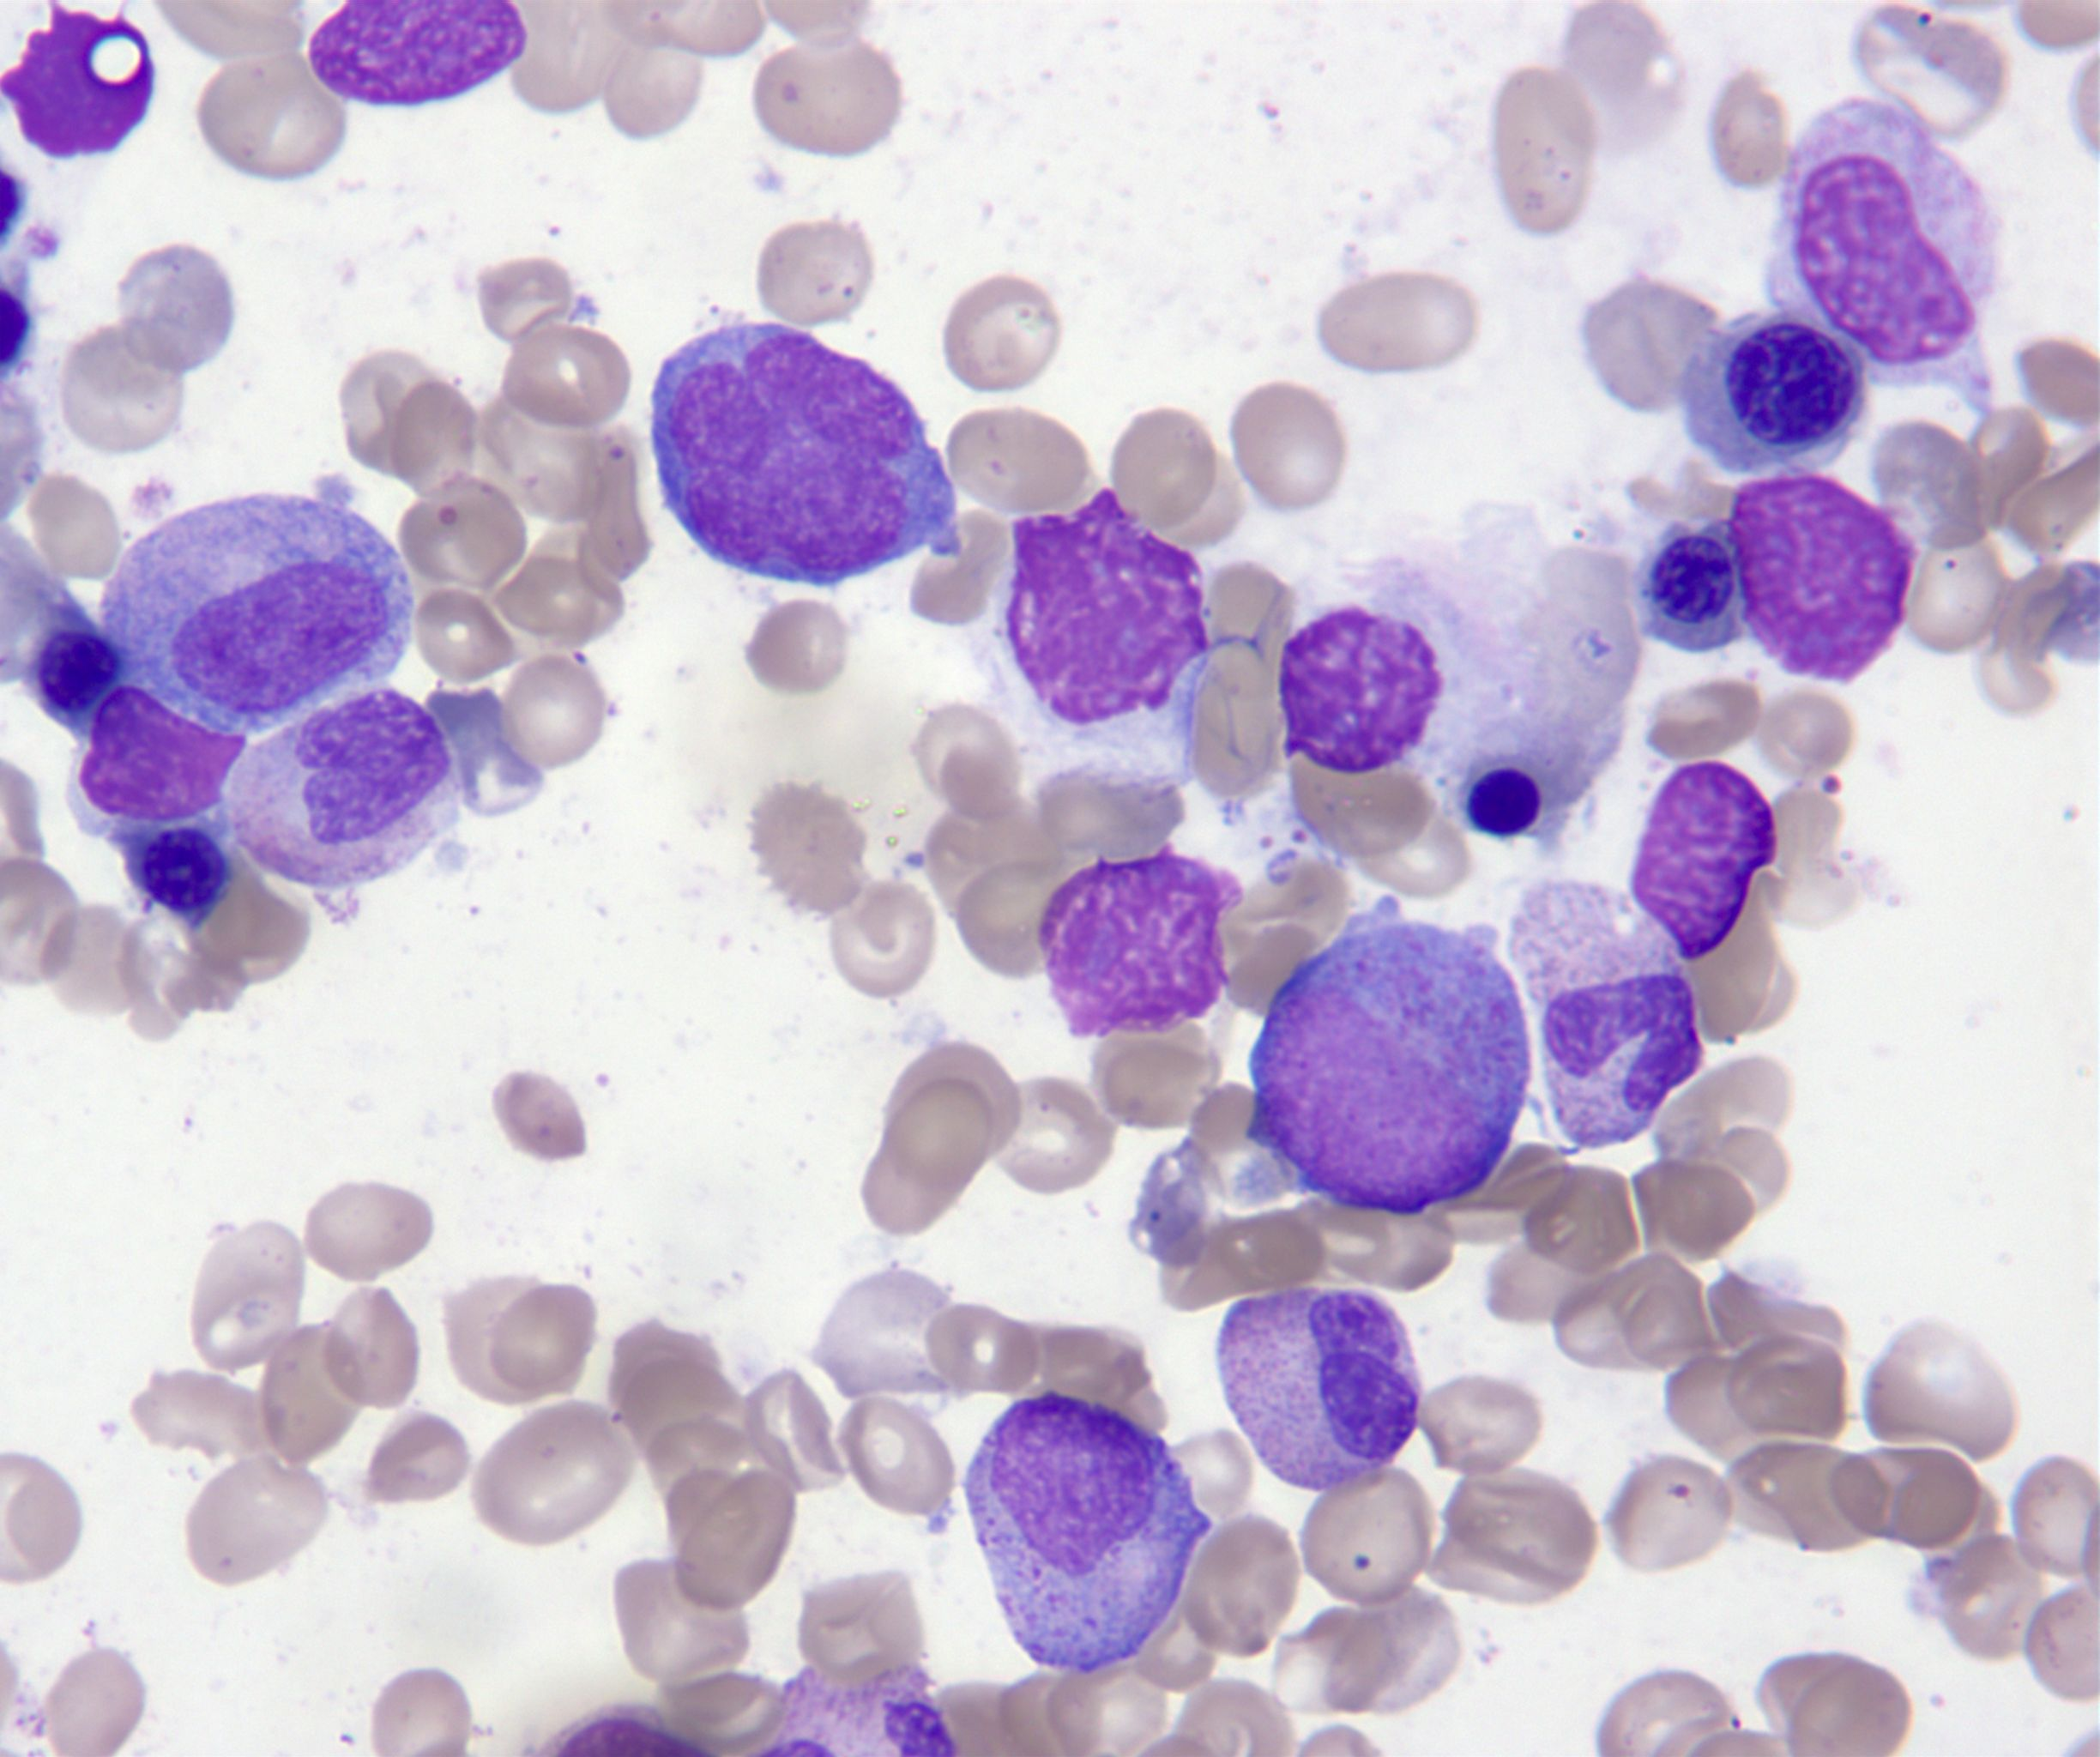24: (1678, 311, 1870, 475), (1636, 518, 1751, 653), (108, 817, 234, 928), (23, 598, 126, 731), (1458, 754, 1558, 841)
3: (1244, 897, 1530, 1216), (103, 496, 413, 729), (961, 1394, 1207, 1668)
32: (66, 679, 249, 837)
4: (1763, 103, 1999, 424), (222, 689, 460, 886)
5: (1510, 881, 1704, 1150)
6: (1221, 1293, 1422, 1495)
x: (651, 323, 966, 581), (977, 489, 1214, 789), (1256, 558, 1460, 771), (1728, 473, 1915, 684), (1043, 850, 1242, 1038), (1631, 764, 1774, 963), (2, 0, 157, 157), (309, 2, 527, 110)
